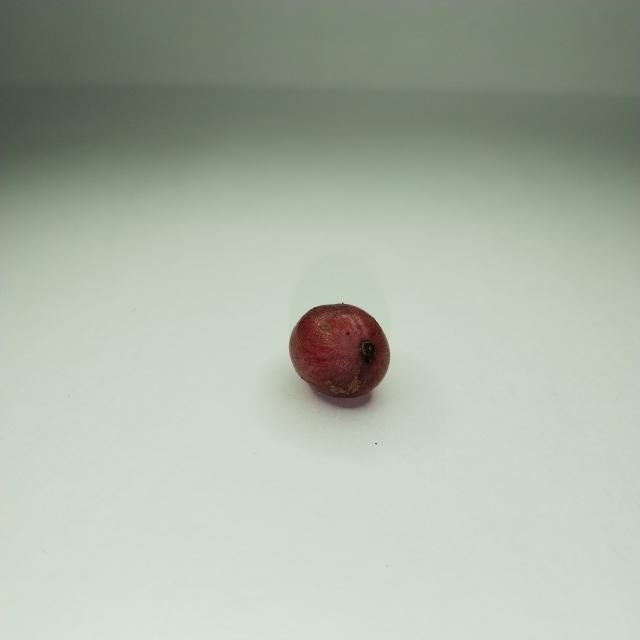Infectado: (289, 304, 391, 396)
